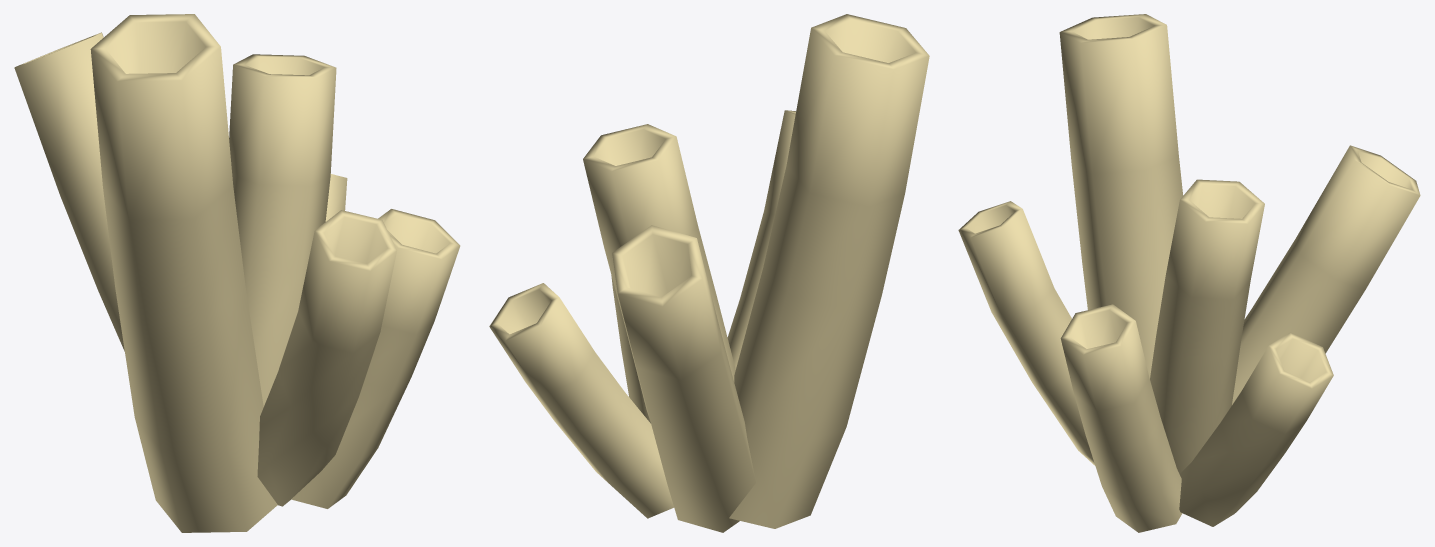
The model's file is Cylinder6_Bogdan.fbx.
3 renders of one model, left to right at view 1: azimuth 30°, elevation 25°; view 2: azimuth 150°, elevation 25°; view 3: azimuth 270°, elevation 25°, orthographic. The views are drawn at different scales.
Parts seen in each view (by area): view 1: Cylinder6; view 2: Cylinder6; view 3: Cylinder6.
Part boxes in pixels (x1,y1,x2,y2): Cylinder6: [14, 14, 460, 532]; Cylinder6: [489, 14, 929, 532]; Cylinder6: [958, 14, 1420, 532].
Size of the model in its own units: 66.83 by 97.4 by 93.78.
